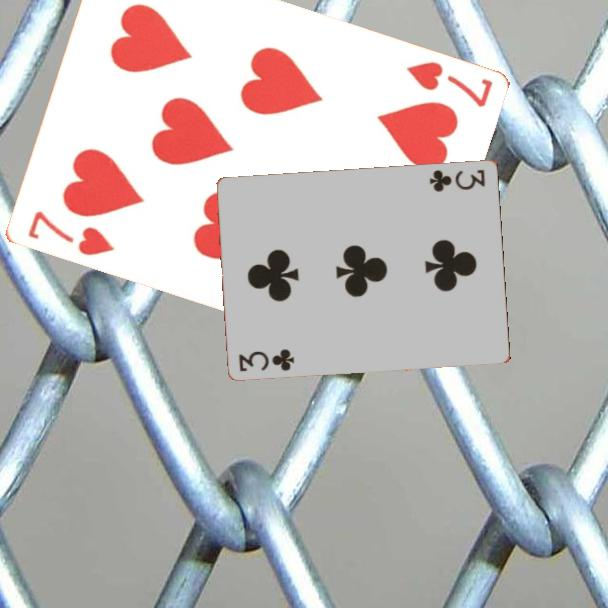c03: (235, 345, 297, 374), (426, 166, 488, 194)
h07: (402, 58, 495, 111), (23, 207, 117, 259)
